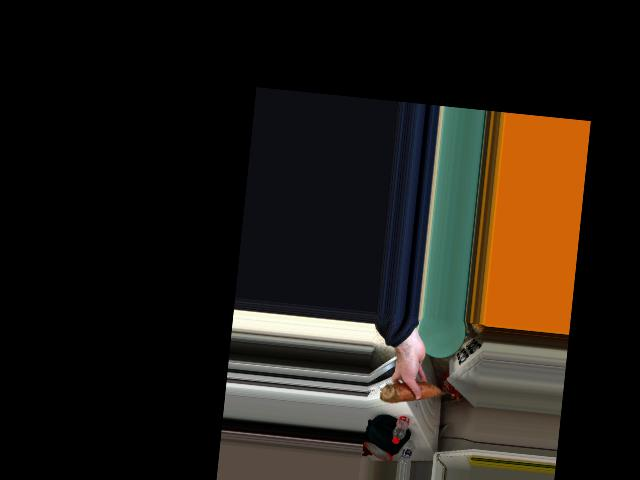sweet_potato: (379, 380, 444, 402)
